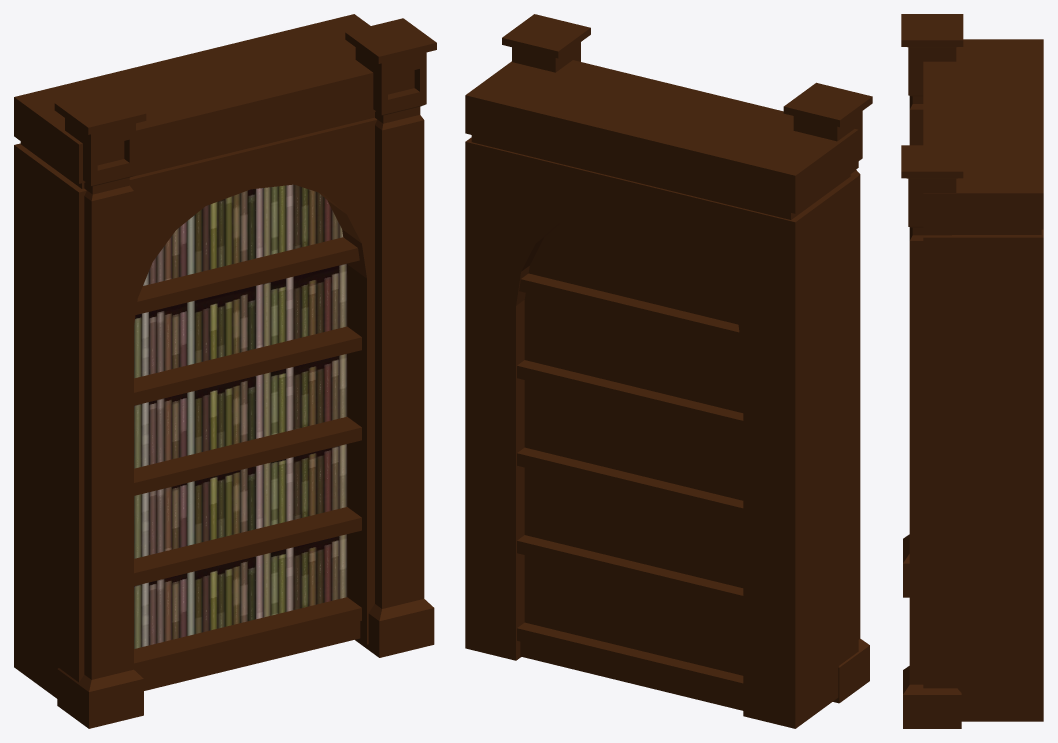
The model's file is Bibliotheque_livre.fbx.
3 views of the same model, side by side, from view 1: azimuth 30°, elevation 25°; view 2: azimuth 150°, elevation 25°; view 3: azimuth 270°, elevation 25° (orthographic). The views are drawn at different scales.
Parts seen in each view (by area): view 1: bibliotheque, Plane.003, Plane.004, Plane.001, Plane.002, Plane.005; view 2: bibliotheque; view 3: bibliotheque.
Part boxes in pixels (x1=…): bibliotheque: x1=14, y1=14, x2=436, y2=728; Plane.003: x1=134, y1=444, x2=347, y2=558; Plane.004: x1=134, y1=534, x2=347, y2=648; Plane.001: x1=134, y1=354, x2=347, y2=468; Plane.002: x1=134, y1=263, x2=347, y2=378; Plane.005: x1=143, y1=184, x2=342, y2=285; bibliotheque: x1=465, y1=14, x2=872, y2=728; bibliotheque: x1=901, y1=14, x2=1043, y2=728.
Bounding box in the file's own units: 156 × 257 × 59.44.
Materials: 2 (1 with a texture image).
